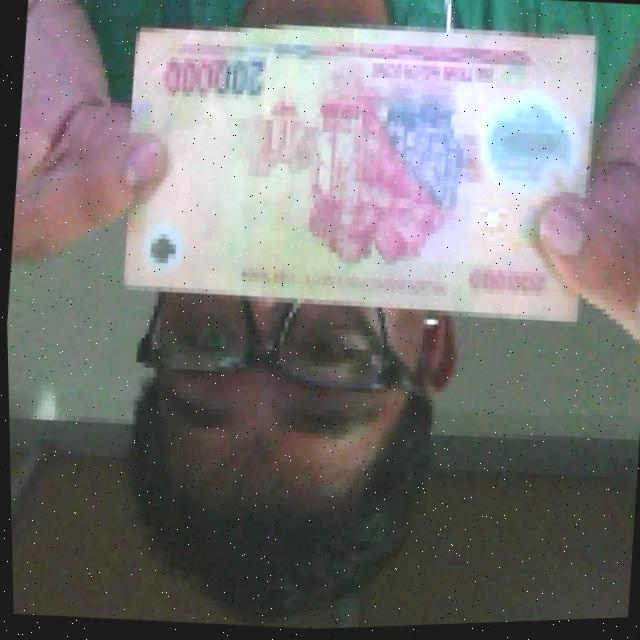200 000 VND: (107, 0, 610, 349)
